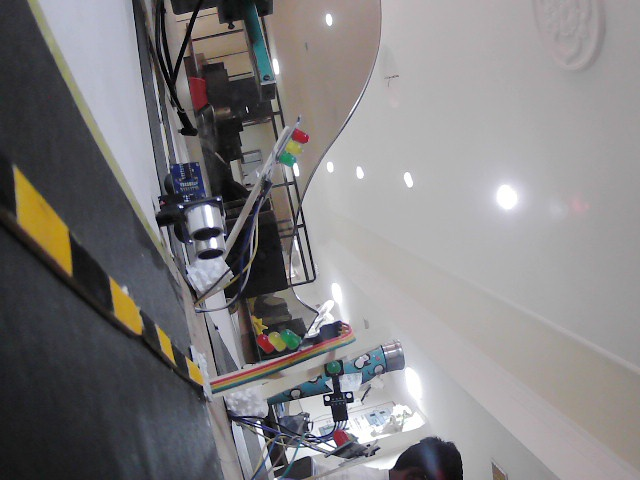black_strip: (66, 242, 114, 308), (0, 156, 15, 215), (138, 314, 158, 347), (173, 345, 190, 377)
mixed_lane: (1, 166, 200, 385)
traffic_light: (321, 326, 375, 417), (266, 114, 315, 195), (324, 428, 382, 464), (268, 318, 311, 366)
uno_breadboard: (164, 204, 230, 263), (162, 150, 214, 204)
yellow_strip: (14, 161, 69, 264), (110, 276, 138, 326), (156, 327, 172, 357), (186, 360, 204, 381)
